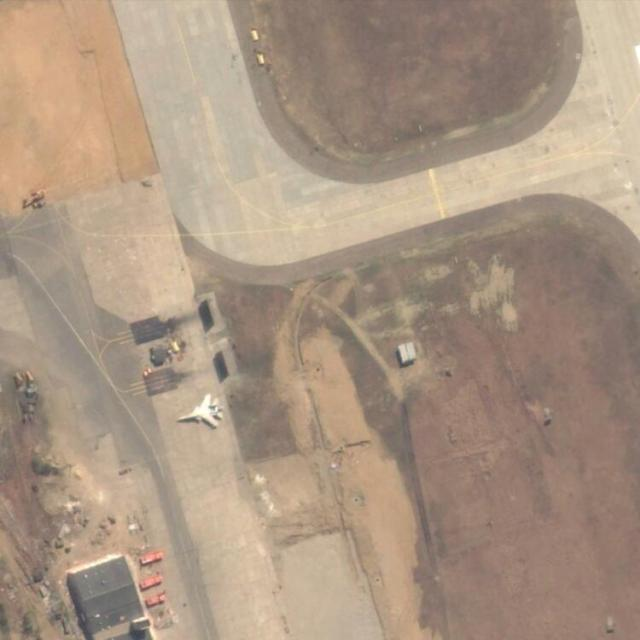fighter jet: (175, 392, 225, 432)
